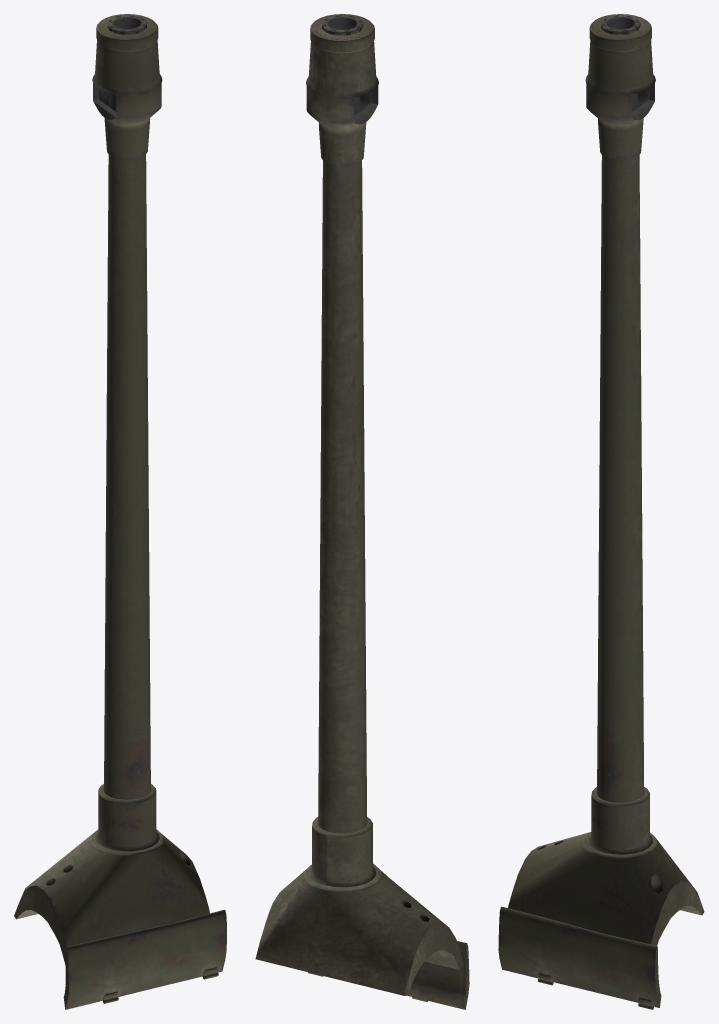
Rendered from Gun_01.glb.
3 views of the same model, side by side, from view 1: azimuth 30°, elevation 25°; view 2: azimuth 150°, elevation 25°; view 3: azimuth 330°, elevation 25° (orthographic). The views are drawn at different scales.
Visible parts, largest first — view 1: set_0_group_0; view 2: set_0_group_0; view 3: set_0_group_0.
Part boxes in pixels (bbox=[...]): set_0_group_0: bbox=[14, 14, 226, 1009]; set_0_group_0: bbox=[255, 14, 469, 1009]; set_0_group_0: bbox=[498, 14, 704, 1009].
Size of the model in its own units: 0.8397 by 4.83 by 0.5536.
1 material, 1 textured.
